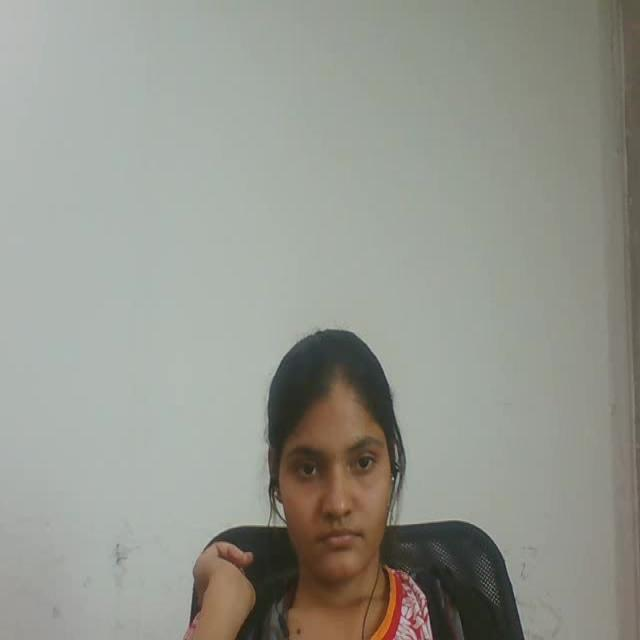Engaged: (236, 296, 443, 608)
